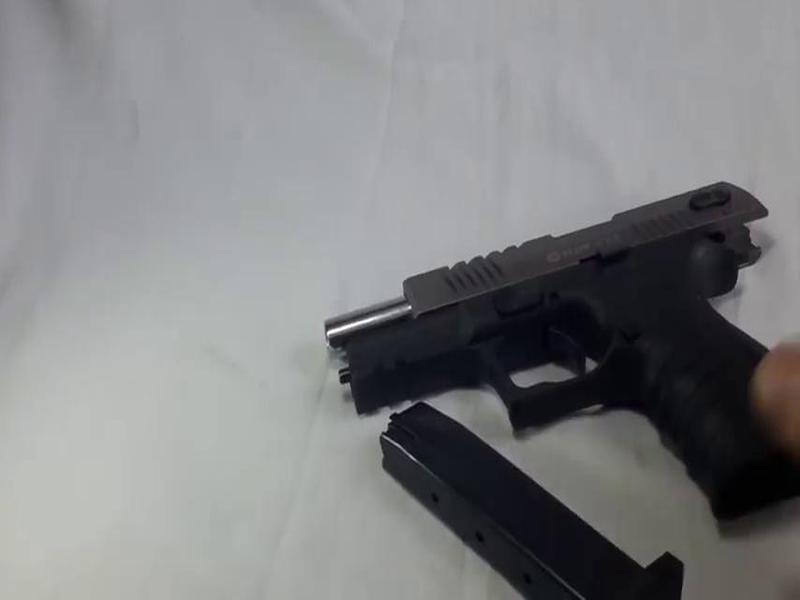Pistola: (337, 174, 800, 507)
